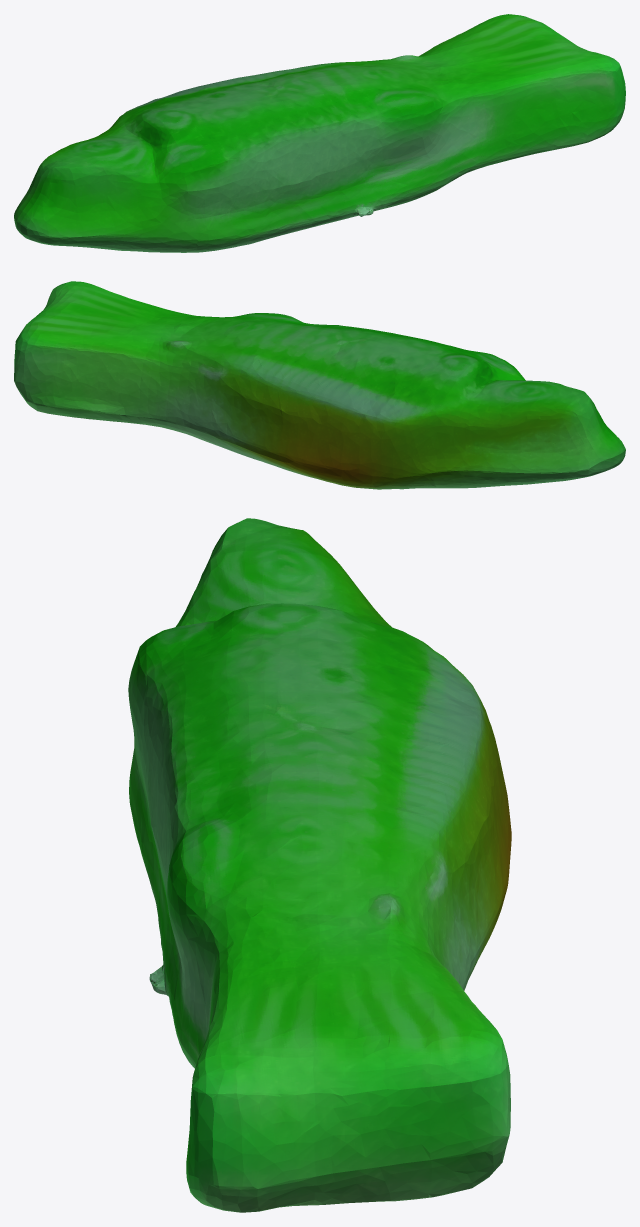
File: green_fish.glb
3 renders of one model, top to bottom at view 1: azimuth 30°, elevation 25°; view 2: azimuth 150°, elevation 25°; view 3: azimuth 270°, elevation 25°, orthographic. The views are drawn at different scales.
Parts seen in each view (by area): view 1: world; view 2: world; view 3: world.
Part boxes in pixels (bbox=[...]): world: bbox=[14, 14, 625, 252]; world: bbox=[14, 281, 625, 489]; world: bbox=[128, 518, 511, 1212].
Bounding box in the file's own units: 0.9992 × 0.2096 × 0.2868.
Materials: 1 (1 with a texture image).
